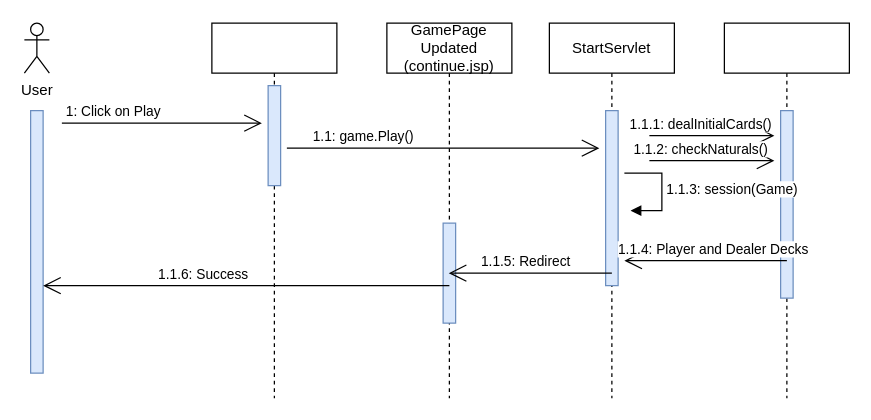
Some shapes in this 871 by 420 pixel diagram are drawn without their labels. Here are the shapes that lost their labels. From the top down, the centre of each, then its label:
At pixel 274 210: "GamePage (continue.jsp)".
At pixel 786 210: "PlayGame".
